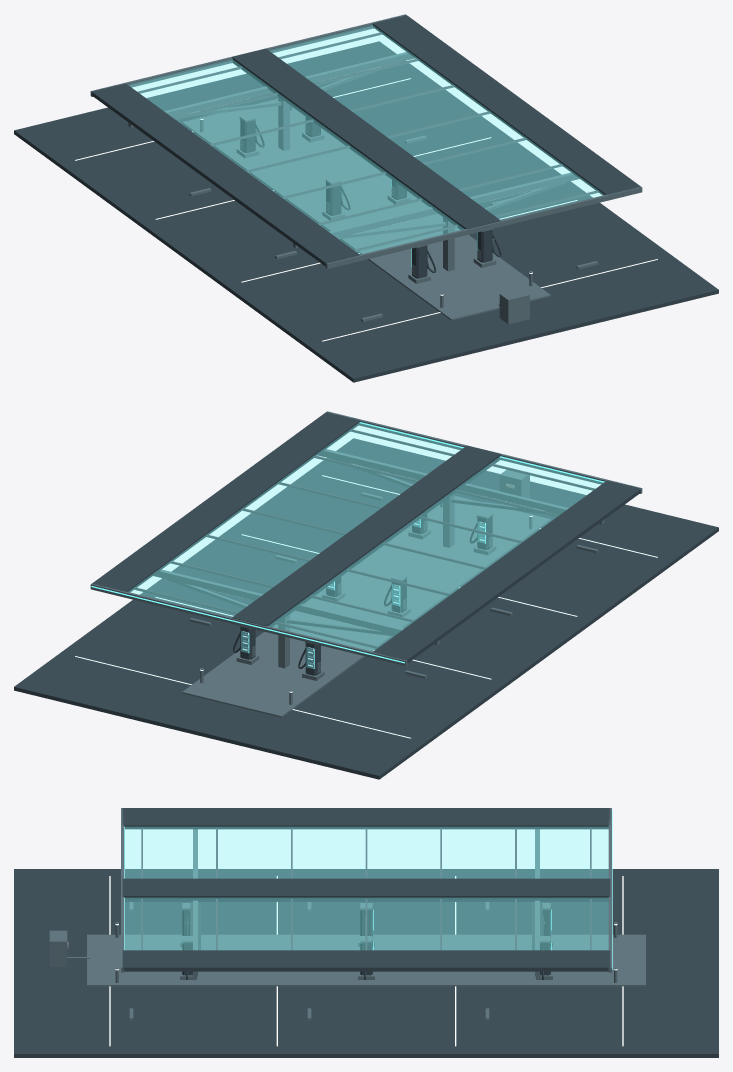
Rendered from ev_charging_station.glb.
3 renders of one model, top to bottom at view 1: azimuth 30°, elevation 25°; view 2: azimuth 150°, elevation 25°; view 3: azimuth 270°, elevation 25°, orthographic. The views are drawn at different scales.
Parts seen in each view (by area): view 1: ev_charging_station_graphite, ev_charging_station_glass, ev_charging_station_graphite_light, ev_charging_station_white; view 2: ev_charging_station_graphite, ev_charging_station_glass, ev_charging_station_graphite_light, ev_charging_station_white, ev_charging_station_edge; view 3: ev_charging_station_graphite, ev_charging_station_glass, ev_charging_station_graphite_light, ev_charging_station_white.
Part boxes in pixels (left/top/right/bottom): ev_charging_station_graphite: left=14, top=15, right=718, bottom=382; ev_charging_station_glass: left=129, top=25, right=604, bottom=254; ev_charging_station_graphite_light: left=90, top=14, right=642, bottom=324; ev_charging_station_white: left=75, top=78, right=657, bottom=341; ev_charging_station_graphite: left=14, top=412, right=718, bottom=779; ev_charging_station_glass: left=128, top=422, right=603, bottom=668; ev_charging_station_graphite_light: left=90, top=411, right=642, bottom=717; ev_charging_station_white: left=75, top=475, right=657, bottom=738; ev_charging_station_edge: left=91, top=422, right=604, bottom=668; ev_charging_station_graphite: left=14, top=808, right=718, bottom=1057; ev_charging_station_glass: left=125, top=827, right=608, bottom=949; ev_charging_station_graphite_light: left=49, top=808, right=645, bottom=1020; ev_charging_station_white: left=109, top=876, right=623, bottom=1046.
Size of the model in its own units: 24.6 by 4.83 by 39.6.
